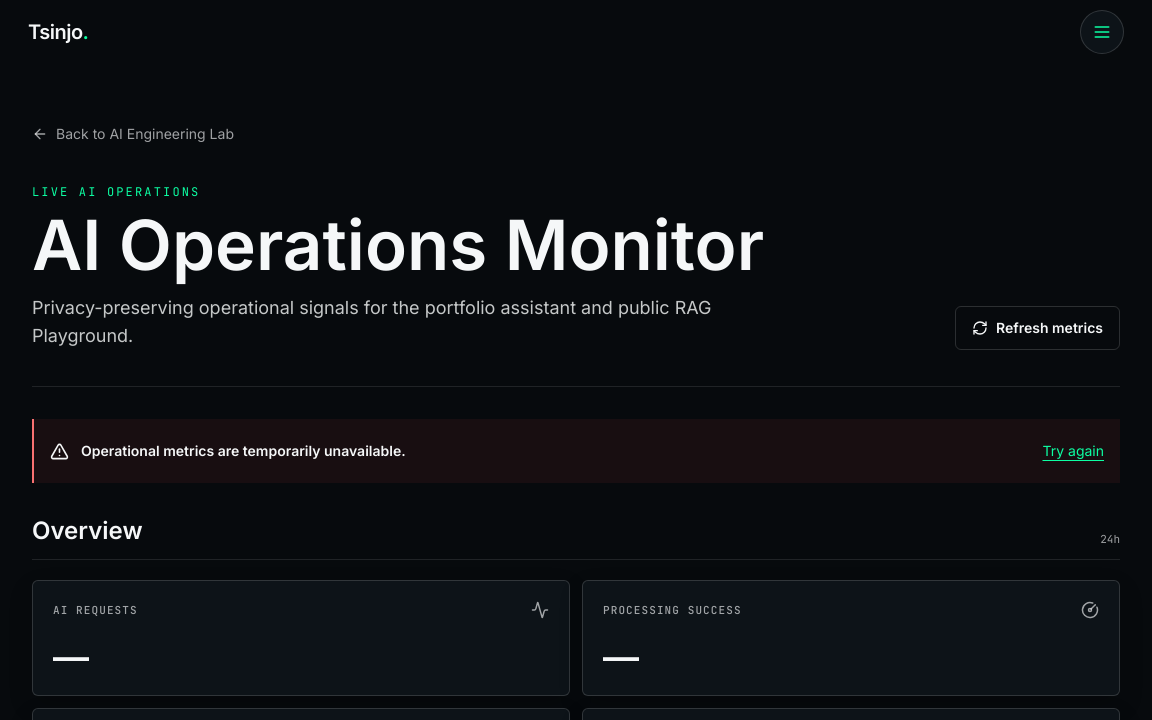
AI Operations Monitor › exposes a retry action after a safe loading error
The width and height of the screenshot is (1152, 720).
Expected: the text "Operational metrics are temporarily unavailable." is shown, [81,440,406,463]
Click the button "Try again" at (1073, 451), box [1042,441,1104,461]
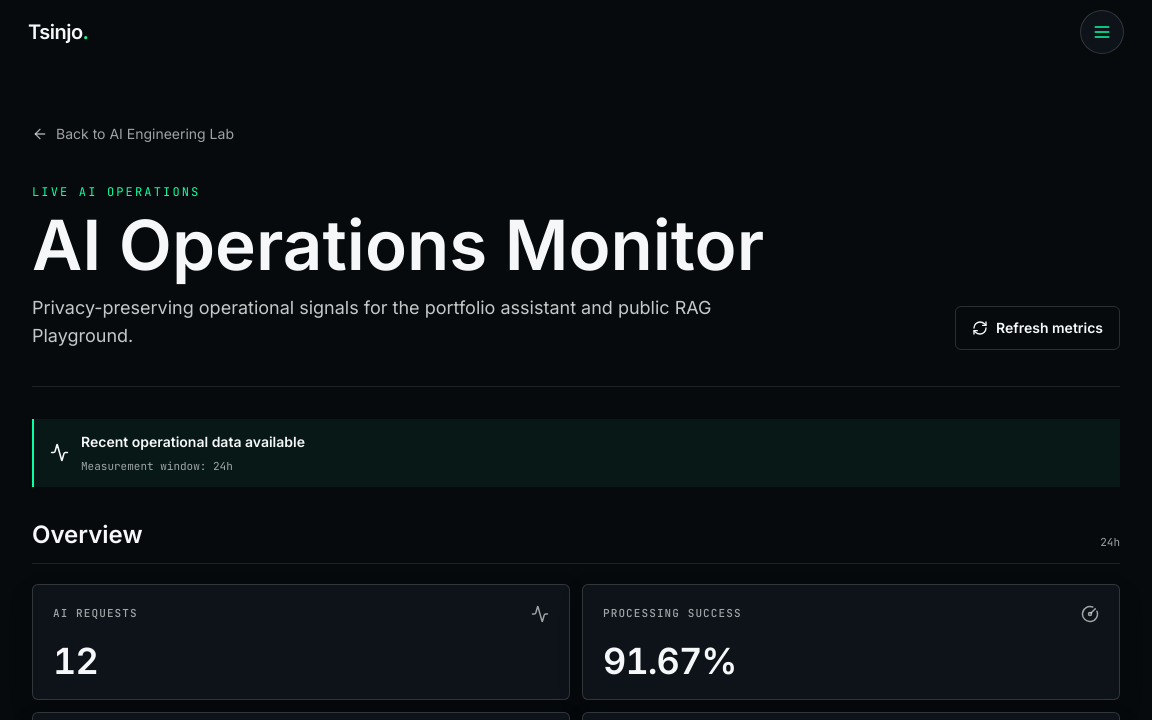
Expected: the text "Recent operational data available" is shown, [81,431,305,454]
